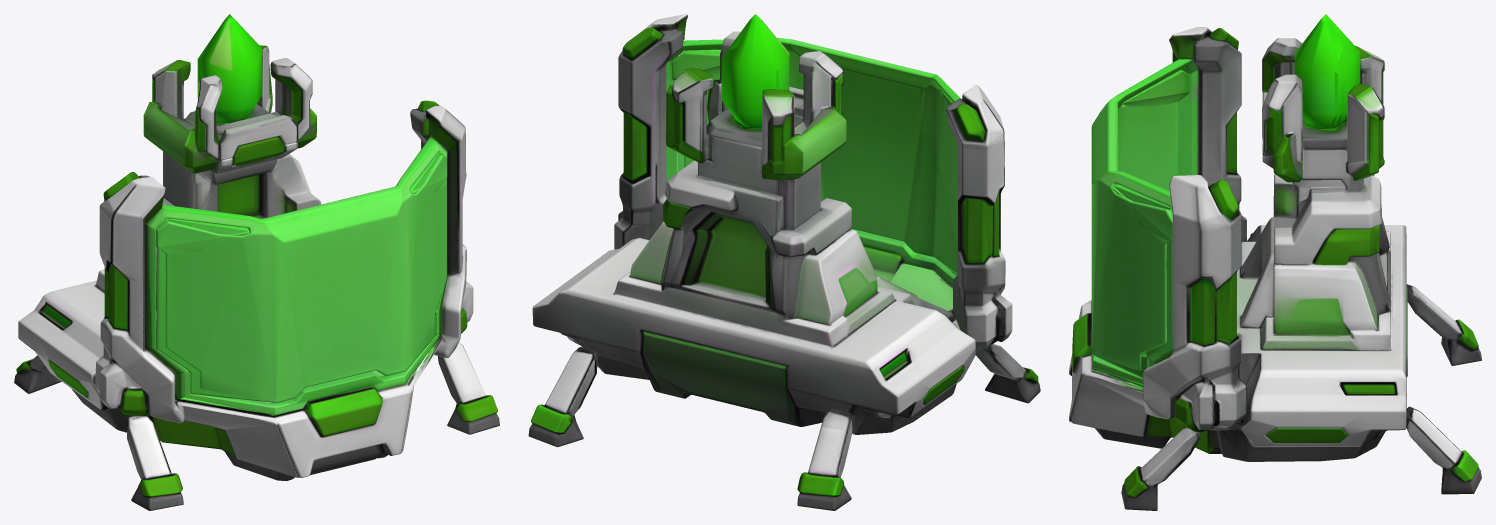
File: Modle_Enemy_Guard.fbx
The picture shows the model from 3 angles, left to right: view 1: azimuth 30°, elevation 25°; view 2: azimuth 150°, elevation 25°; view 3: azimuth 270°, elevation 25°; orthographic projection. The views are drawn at different scales.
Parts seen in each view (by area): view 1: body.005, foot04, foot02, foot03; view 2: body.005, foot03, foot01, foot04; view 3: body.005, foot01, foot02, foot03.
Part boxes in pixels (<box>): body.005: <box>18,14,473,481</box>; foot04: <box>127,416,183,510</box>; foot02: <box>437,342,499,434</box>; foot03: <box>14,355,61,393</box>; body.005: <box>532,14,1012,434</box>; foot03: <box>797,408,852,510</box>; foot01: <box>528,347,597,447</box>; foot04: <box>976,344,1040,403</box>; body.005: <box>1069,14,1407,461</box>; foot01: <box>1406,406,1481,494</box>; foot02: <box>1121,428,1200,510</box>; foot03: <box>1406,284,1481,365</box>.
Size of the model in its own units: 1.2 by 1.2 by 1.11.
